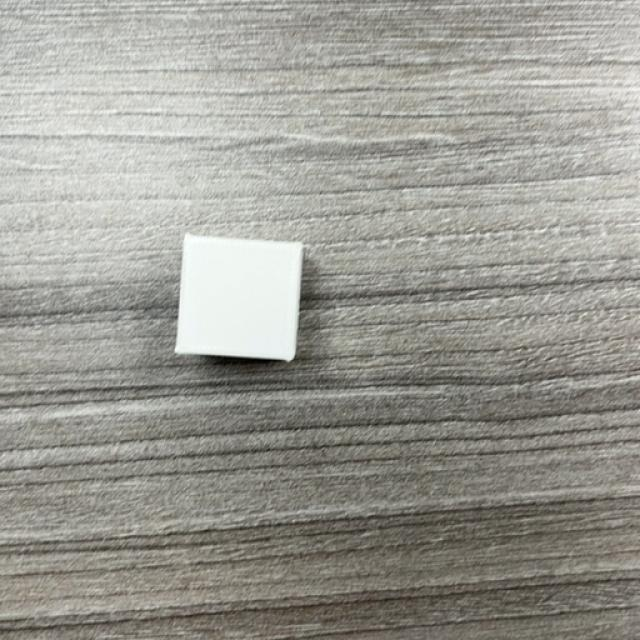Blanco: (175, 235, 302, 365)
